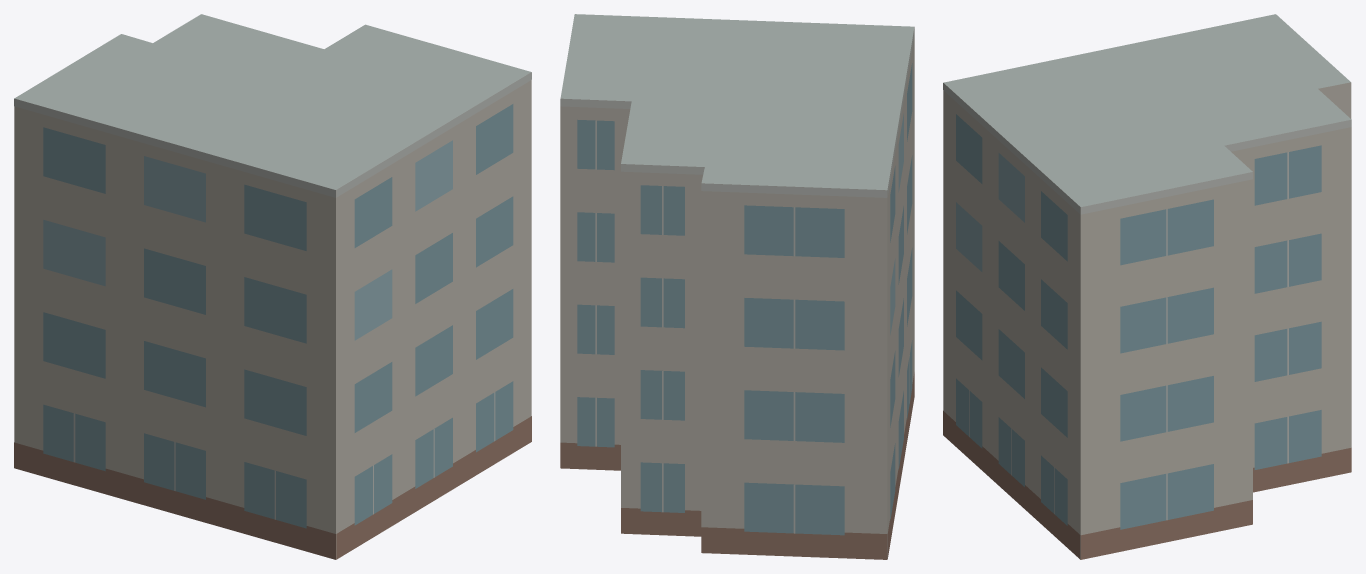
Rendered from survey-upis-32753981.glb.
3 renders of one model, left to right at view 1: azimuth 30°, elevation 25°; view 2: azimuth 150°, elevation 25°; view 3: azimuth 270°, elevation 25°, orthographic. The views are drawn at different scales.
Visible parts, largest first — view 1: survey-upis-32753981.tmp; view 2: survey-upis-32753981.tmp; view 3: survey-upis-32753981.tmp.
Part boxes in pixels (x1,y1,x2,y2): survey-upis-32753981.tmp: [14, 14, 531, 559]; survey-upis-32753981.tmp: [560, 14, 914, 559]; survey-upis-32753981.tmp: [943, 14, 1351, 559].
Size of the model in its own units: 13.64 by 11.6 by 12.19.
